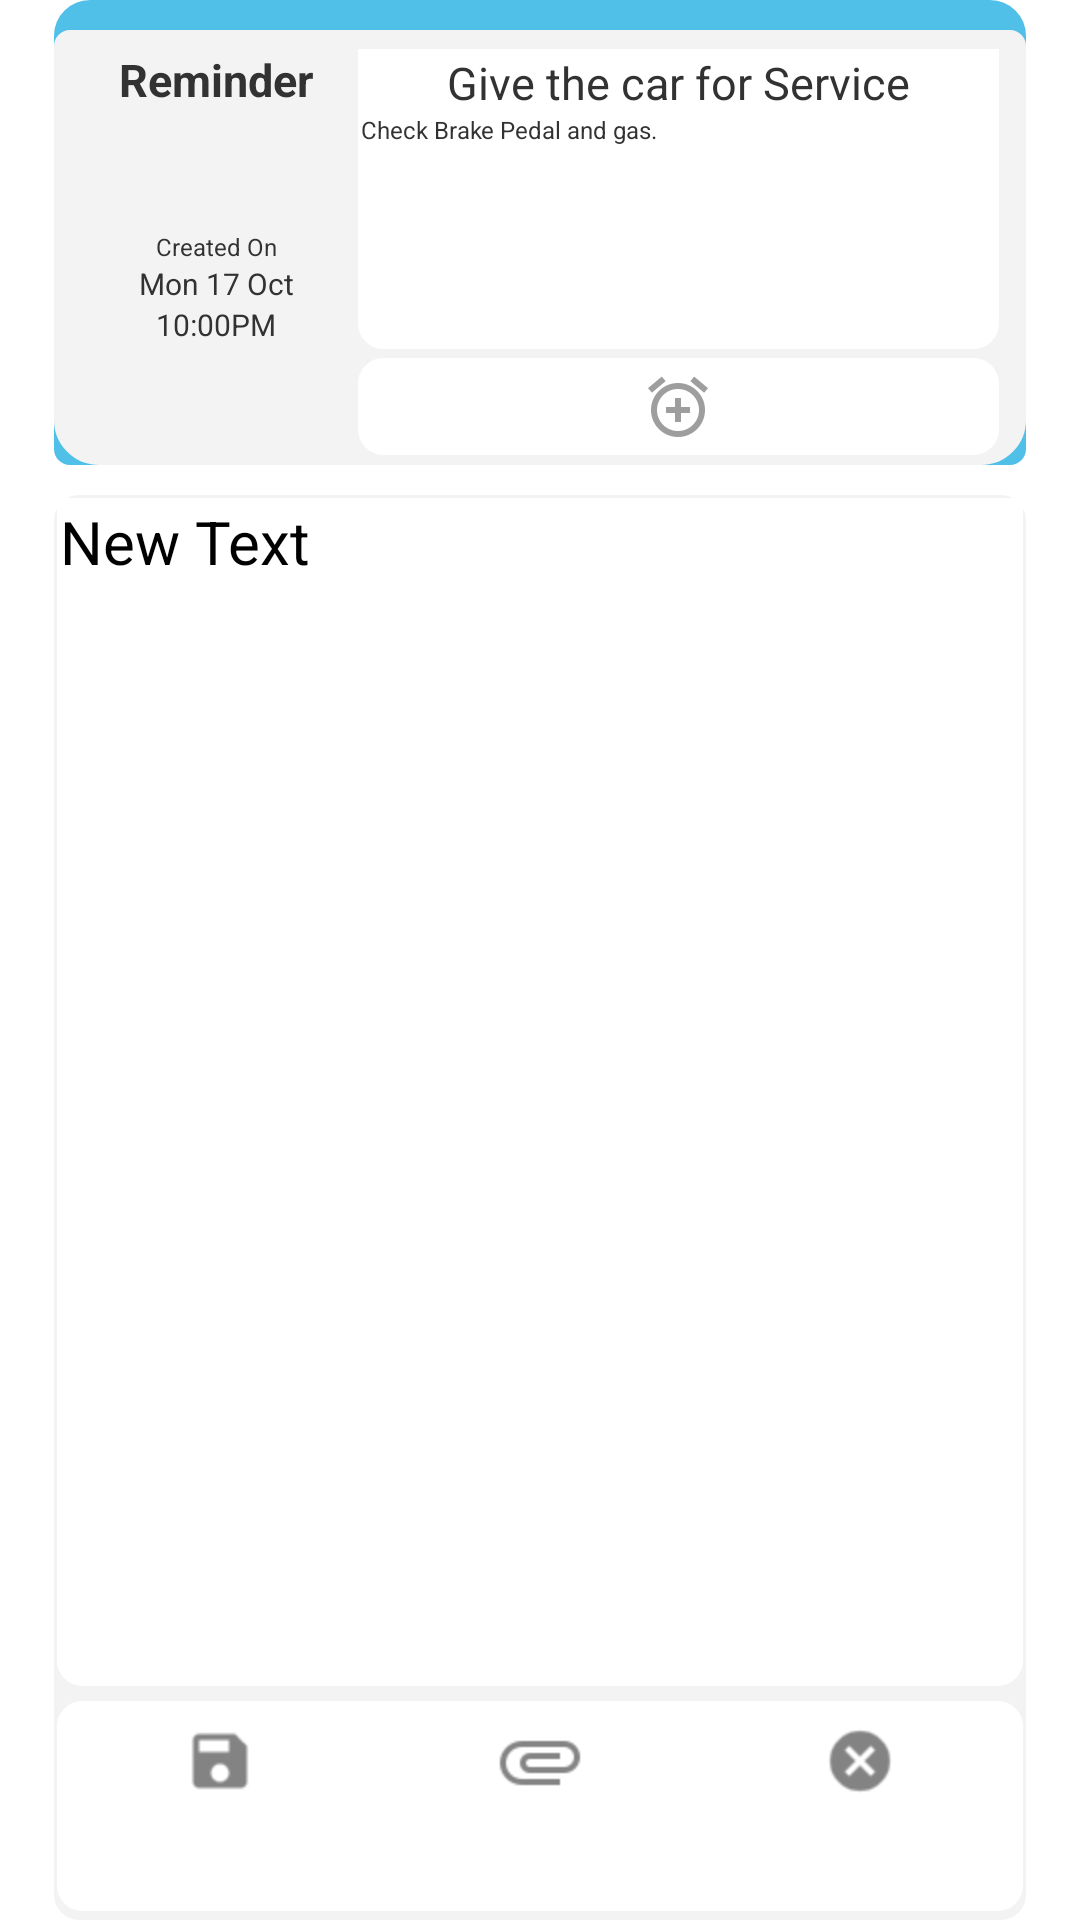

Named icons in this screenshot (1080px x 1920px) and their centers, point (x, y):
alarm add: point (678, 407)
attachment: point (540, 1763)
content save: point (220, 1761)
navigation cancel: point (860, 1761)
